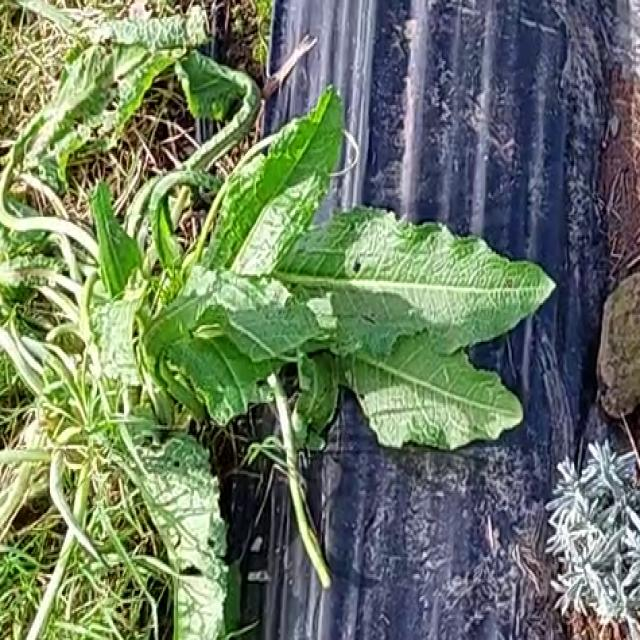organic waste: (9, 15, 598, 503)
